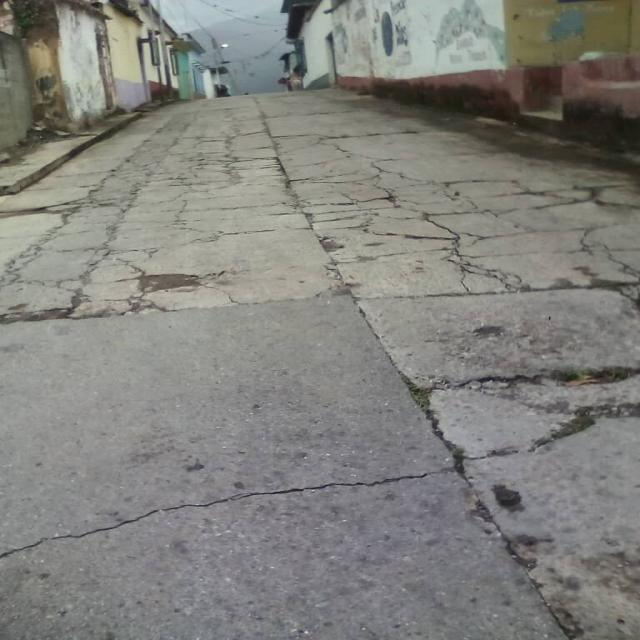Pothole: (115, 188, 611, 330)
